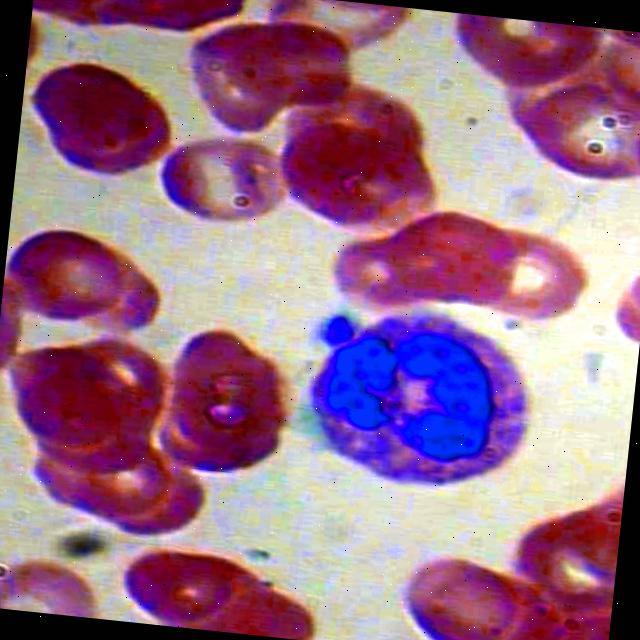RBC: (266, 117, 451, 256), (158, 318, 301, 457), (380, 199, 518, 318), (142, 124, 291, 234), (19, 53, 161, 164), (517, 75, 640, 194), (0, 344, 134, 452), (468, 217, 594, 331), (0, 220, 132, 327), (387, 542, 525, 640), (115, 538, 236, 632)
WBC: (286, 286, 551, 502)
